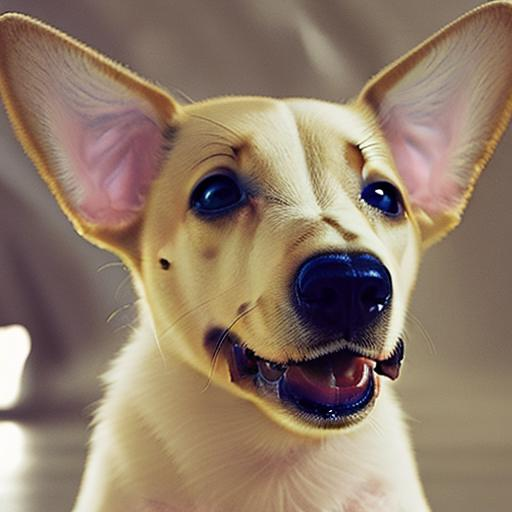eye: (189, 167, 262, 225), (353, 172, 412, 223)
